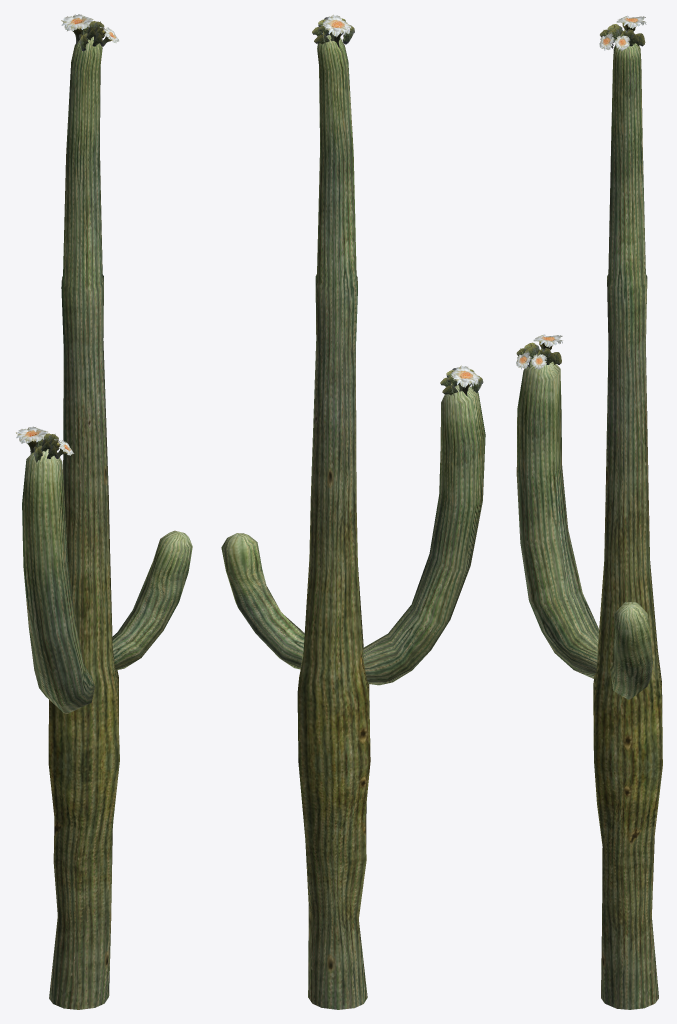
File: DesertPlant01_FlowerB.FBX
3 renders of one model, left to right at view 1: azimuth 30°, elevation 25°; view 2: azimuth 150°, elevation 25°; view 3: azimuth 270°, elevation 25°, orthographic.
Parts seen in each view (by area): view 1: DesertPlant01_FlowerB; view 2: DesertPlant01_FlowerB; view 3: DesertPlant01_FlowerB.
Part boxes in pixels (bbox=[...]): DesertPlant01_FlowerB: bbox=[16, 14, 192, 1009]; DesertPlant01_FlowerB: bbox=[221, 14, 485, 1009]; DesertPlant01_FlowerB: bbox=[516, 15, 662, 1009].
Size of the model in its own units: 8.64 by 37.55 by 5.16.
2 materials, 2 textured.
